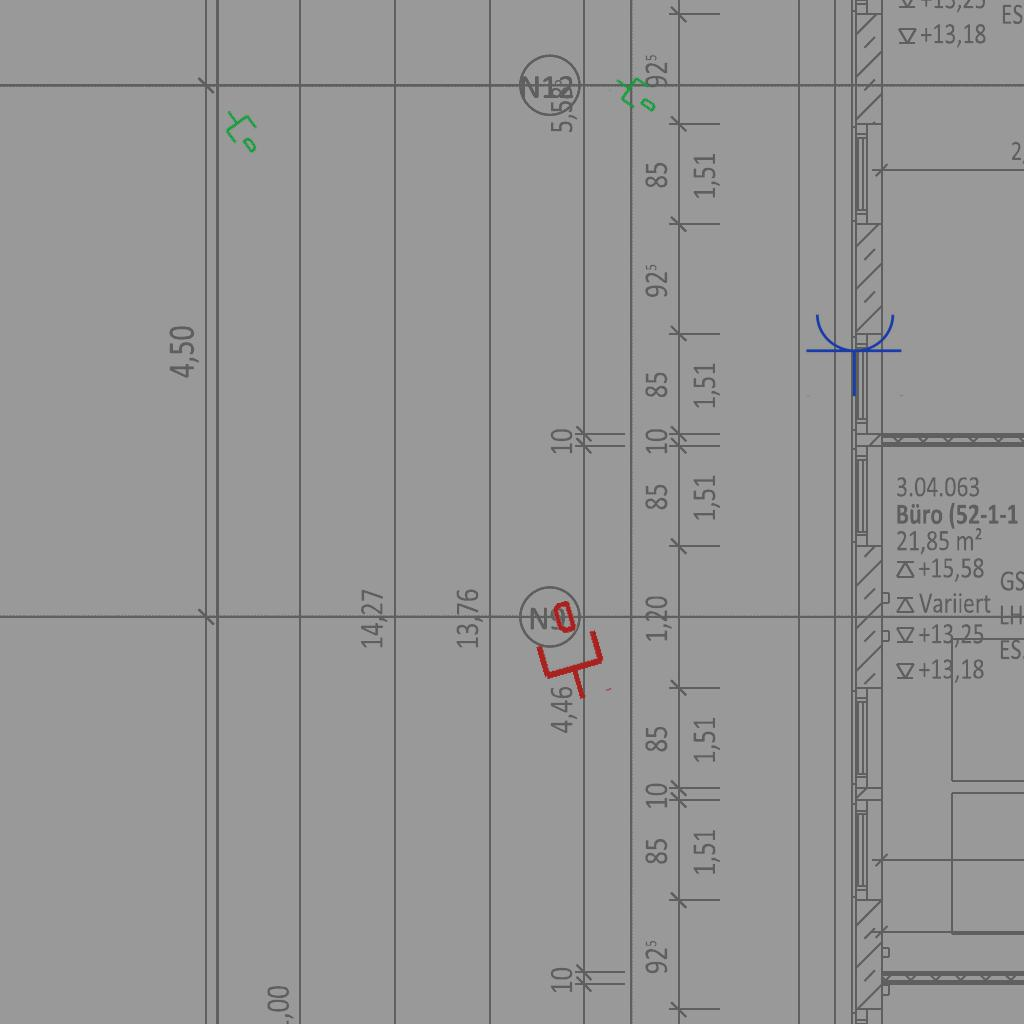Datenanschluss_einfach: (522, 594, 617, 710), (214, 99, 272, 161), (606, 64, 668, 122)
Schukosteckdose_einfach: (805, 310, 905, 397)
